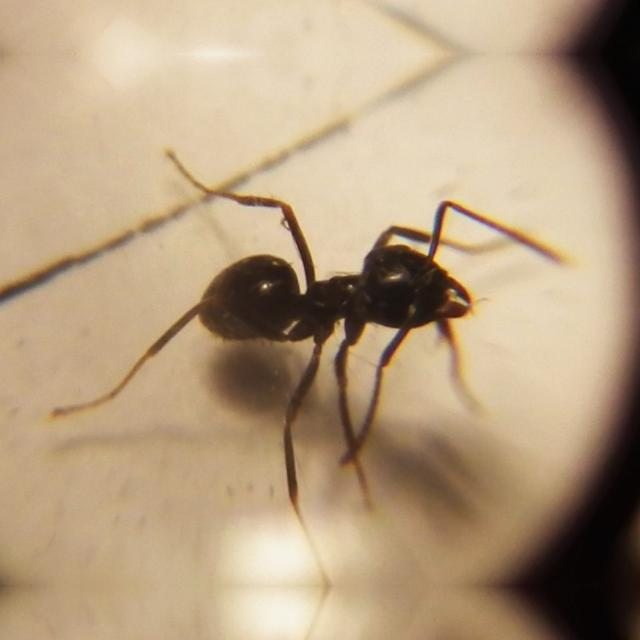Lasius: (160, 145, 520, 441)
